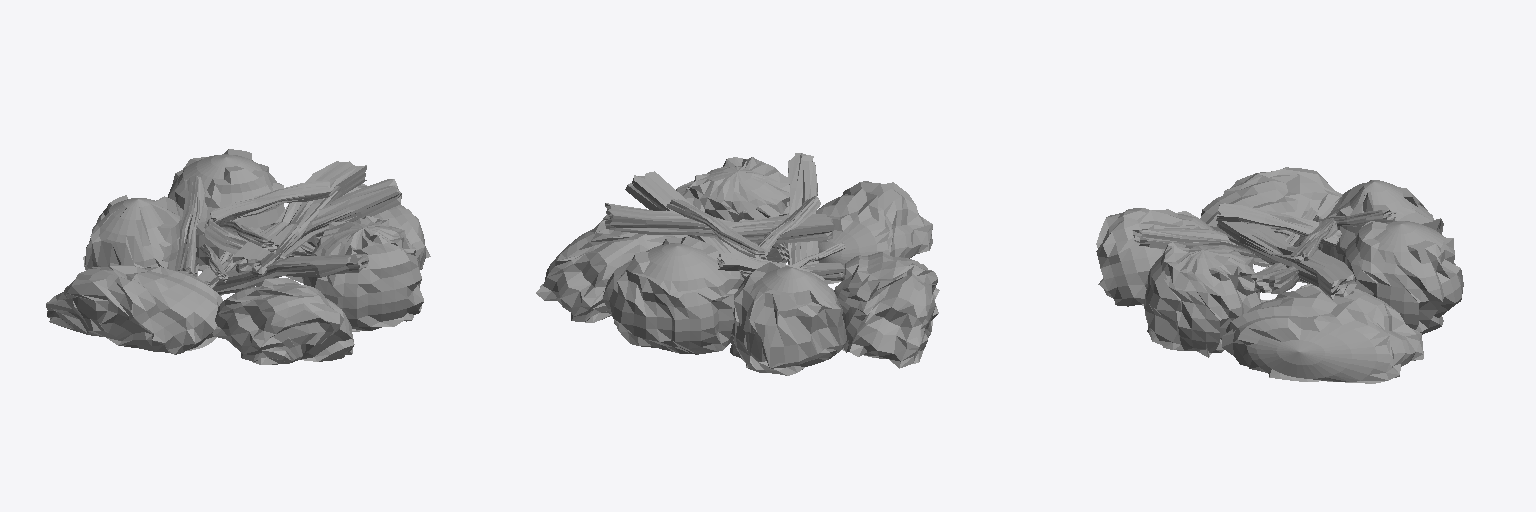
File: fyre.obj
3 renders of one model, left to right at view 1: azimuth 30°, elevation 25°; view 2: azimuth 150°, elevation 25°; view 3: azimuth 270°, elevation 25°, orthographic.
Visible parts, largest first — view 1: Sphere008, Sphere004, Sphere005, Sphere007, Sphere003, Box033, Box035, Box034, Box026, Box031, Sphere006, Box029 (+2 smaller); view 2: Sphere003, Sphere007, Sphere008, Sphere004, Sphere006, Sphere005, Box033, Box035, Box034, Box026, Box032, Box031; view 3: Sphere006, Sphere005, Sphere003, Sphere004, Sphere008, Box033, Sphere007, Box035, Box032, Box034, Box026, Box031.
Part boxes in pixels (left/top/right/bottom): Sphere008: left=46, top=263, right=222, bottom=354; Sphere004: left=212, top=278, right=354, bottom=364; Sphere005: left=302, top=216, right=423, bottom=331; Sphere007: left=83, top=195, right=198, bottom=276; Sphere003: left=168, top=149, right=284, bottom=271; Box033: left=233, top=161, right=366, bottom=275; Box035: left=213, top=253, right=368, bottom=294; Box034: left=220, top=179, right=401, bottom=295; Box026: left=210, top=180, right=331, bottom=224; Box031: left=175, top=175, right=205, bottom=273; Sphere006: left=307, top=183, right=430, bottom=269; Box029: left=203, top=219, right=303, bottom=283; Sphere003: left=602, top=236, right=743, bottom=354; Sphere007: left=730, top=262, right=848, bottom=375; Sphere008: left=834, top=252, right=939, bottom=368; Sphere004: left=817, top=181, right=932, bottom=283; Sphere006: left=536, top=215, right=689, bottom=322; Sphere005: left=676, top=157, right=789, bottom=263; Box033: left=604, top=203, right=834, bottom=242; Box035: left=787, top=153, right=818, bottom=265; Box034: left=625, top=171, right=748, bottom=279; Box026: left=666, top=199, right=769, bottom=259; Box032: left=758, top=196, right=820, bottom=250; Box031: left=717, top=253, right=824, bottom=280; Sphere006: left=1222, top=285, right=1423, bottom=383; Sphere005: left=1144, top=242, right=1260, bottom=357; Sphere003: left=1343, top=221, right=1463, bottom=334; Sphere004: left=1096, top=208, right=1213, bottom=306; Sphere008: left=1200, top=167, right=1342, bottom=266; Box033: left=1215, top=221, right=1356, bottom=299; Sphere007: left=1317, top=180, right=1443, bottom=261; Box035: left=1132, top=228, right=1269, bottom=266; Box032: left=1216, top=203, right=1341, bottom=246; Box034: left=1251, top=263, right=1309, bottom=294; Box026: left=1291, top=218, right=1337, bottom=261; Box031: left=1318, top=210, right=1396, bottom=226.
Bounding box in the file's own units: 145 × 35.96 × 128.